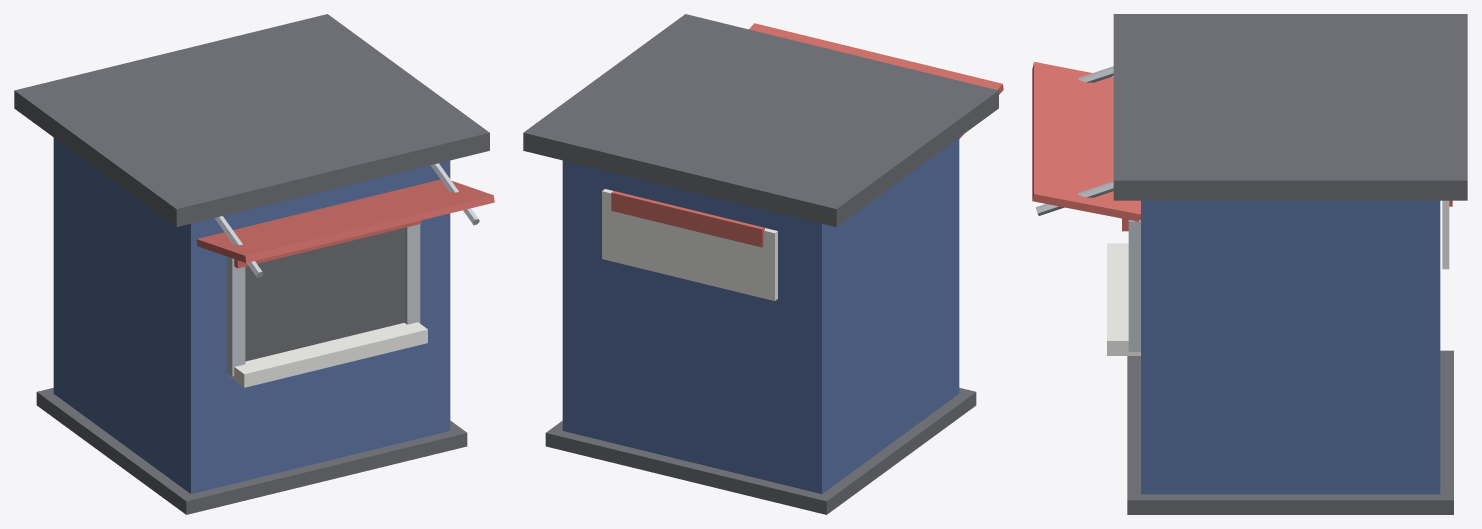
File: baseball-park-and-batting-cages-ticket-kiosk-3c4e1f96__33785.glb
The picture shows the model from 3 angles, left to right: view 1: azimuth 30°, elevation 25°; view 2: azimuth 150°, elevation 25°; view 3: azimuth 270°, elevation 25°; orthographic projection. The views are drawn at different scales.
Parts seen in each view (by area): view 1: ticket-kiosk; view 2: ticket-kiosk; view 3: ticket-kiosk.
Boxes of the visible parts, bbox=[...] form: ticket-kiosk: bbox=[14, 14, 494, 514]; ticket-kiosk: bbox=[523, 14, 1003, 514]; ticket-kiosk: bbox=[1032, 14, 1467, 514].
Bounding box in the file's own units: 2.9 × 2.78 × 3.2.
